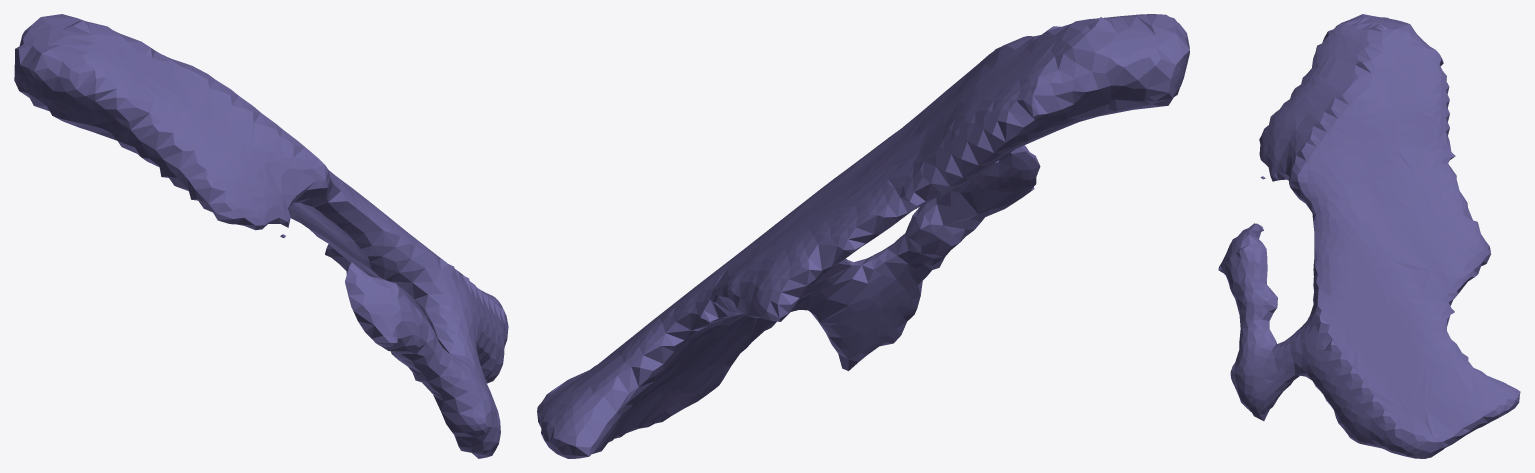
Rendered from Model_320_RH__Reticular_nucleus_(Rt).obj.
The picture shows the model from 3 angles, left to right: view 1: azimuth 30°, elevation 25°; view 2: azimuth 150°, elevation 25°; view 3: azimuth 270°, elevation 25°; orthographic projection. The views are drawn at different scales.
Bounding box in the file's own units: 3.68 × 3.07 × 2.84.
